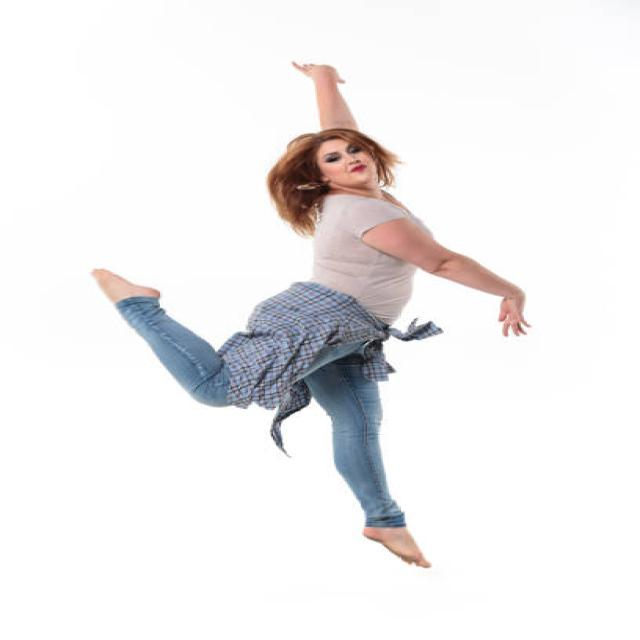Edited images: (79, 54, 554, 581)
